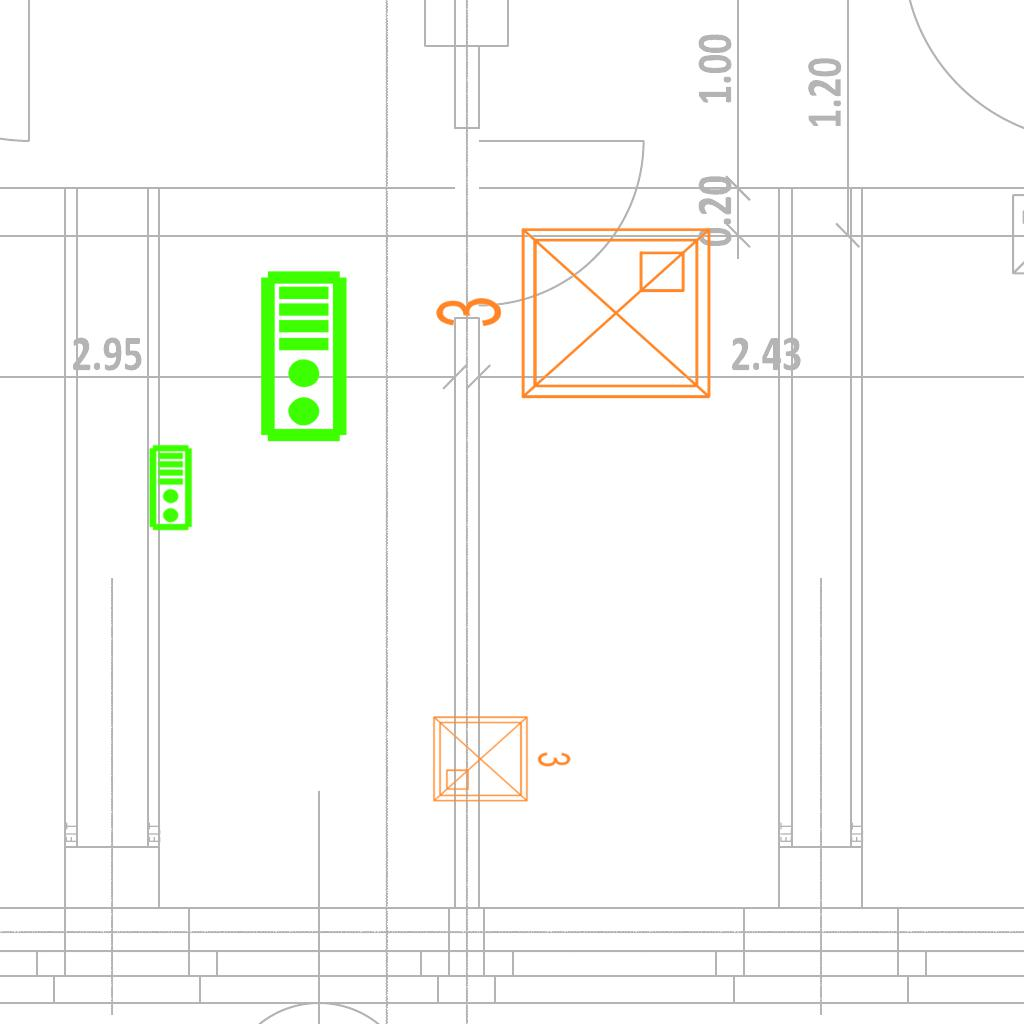Einbaudownlights_LED_Konferenzraeume: (425, 213, 725, 421), (426, 705, 576, 809)
Gegensprechanlage_mit_Video: (258, 269, 353, 445), (148, 444, 195, 532)
